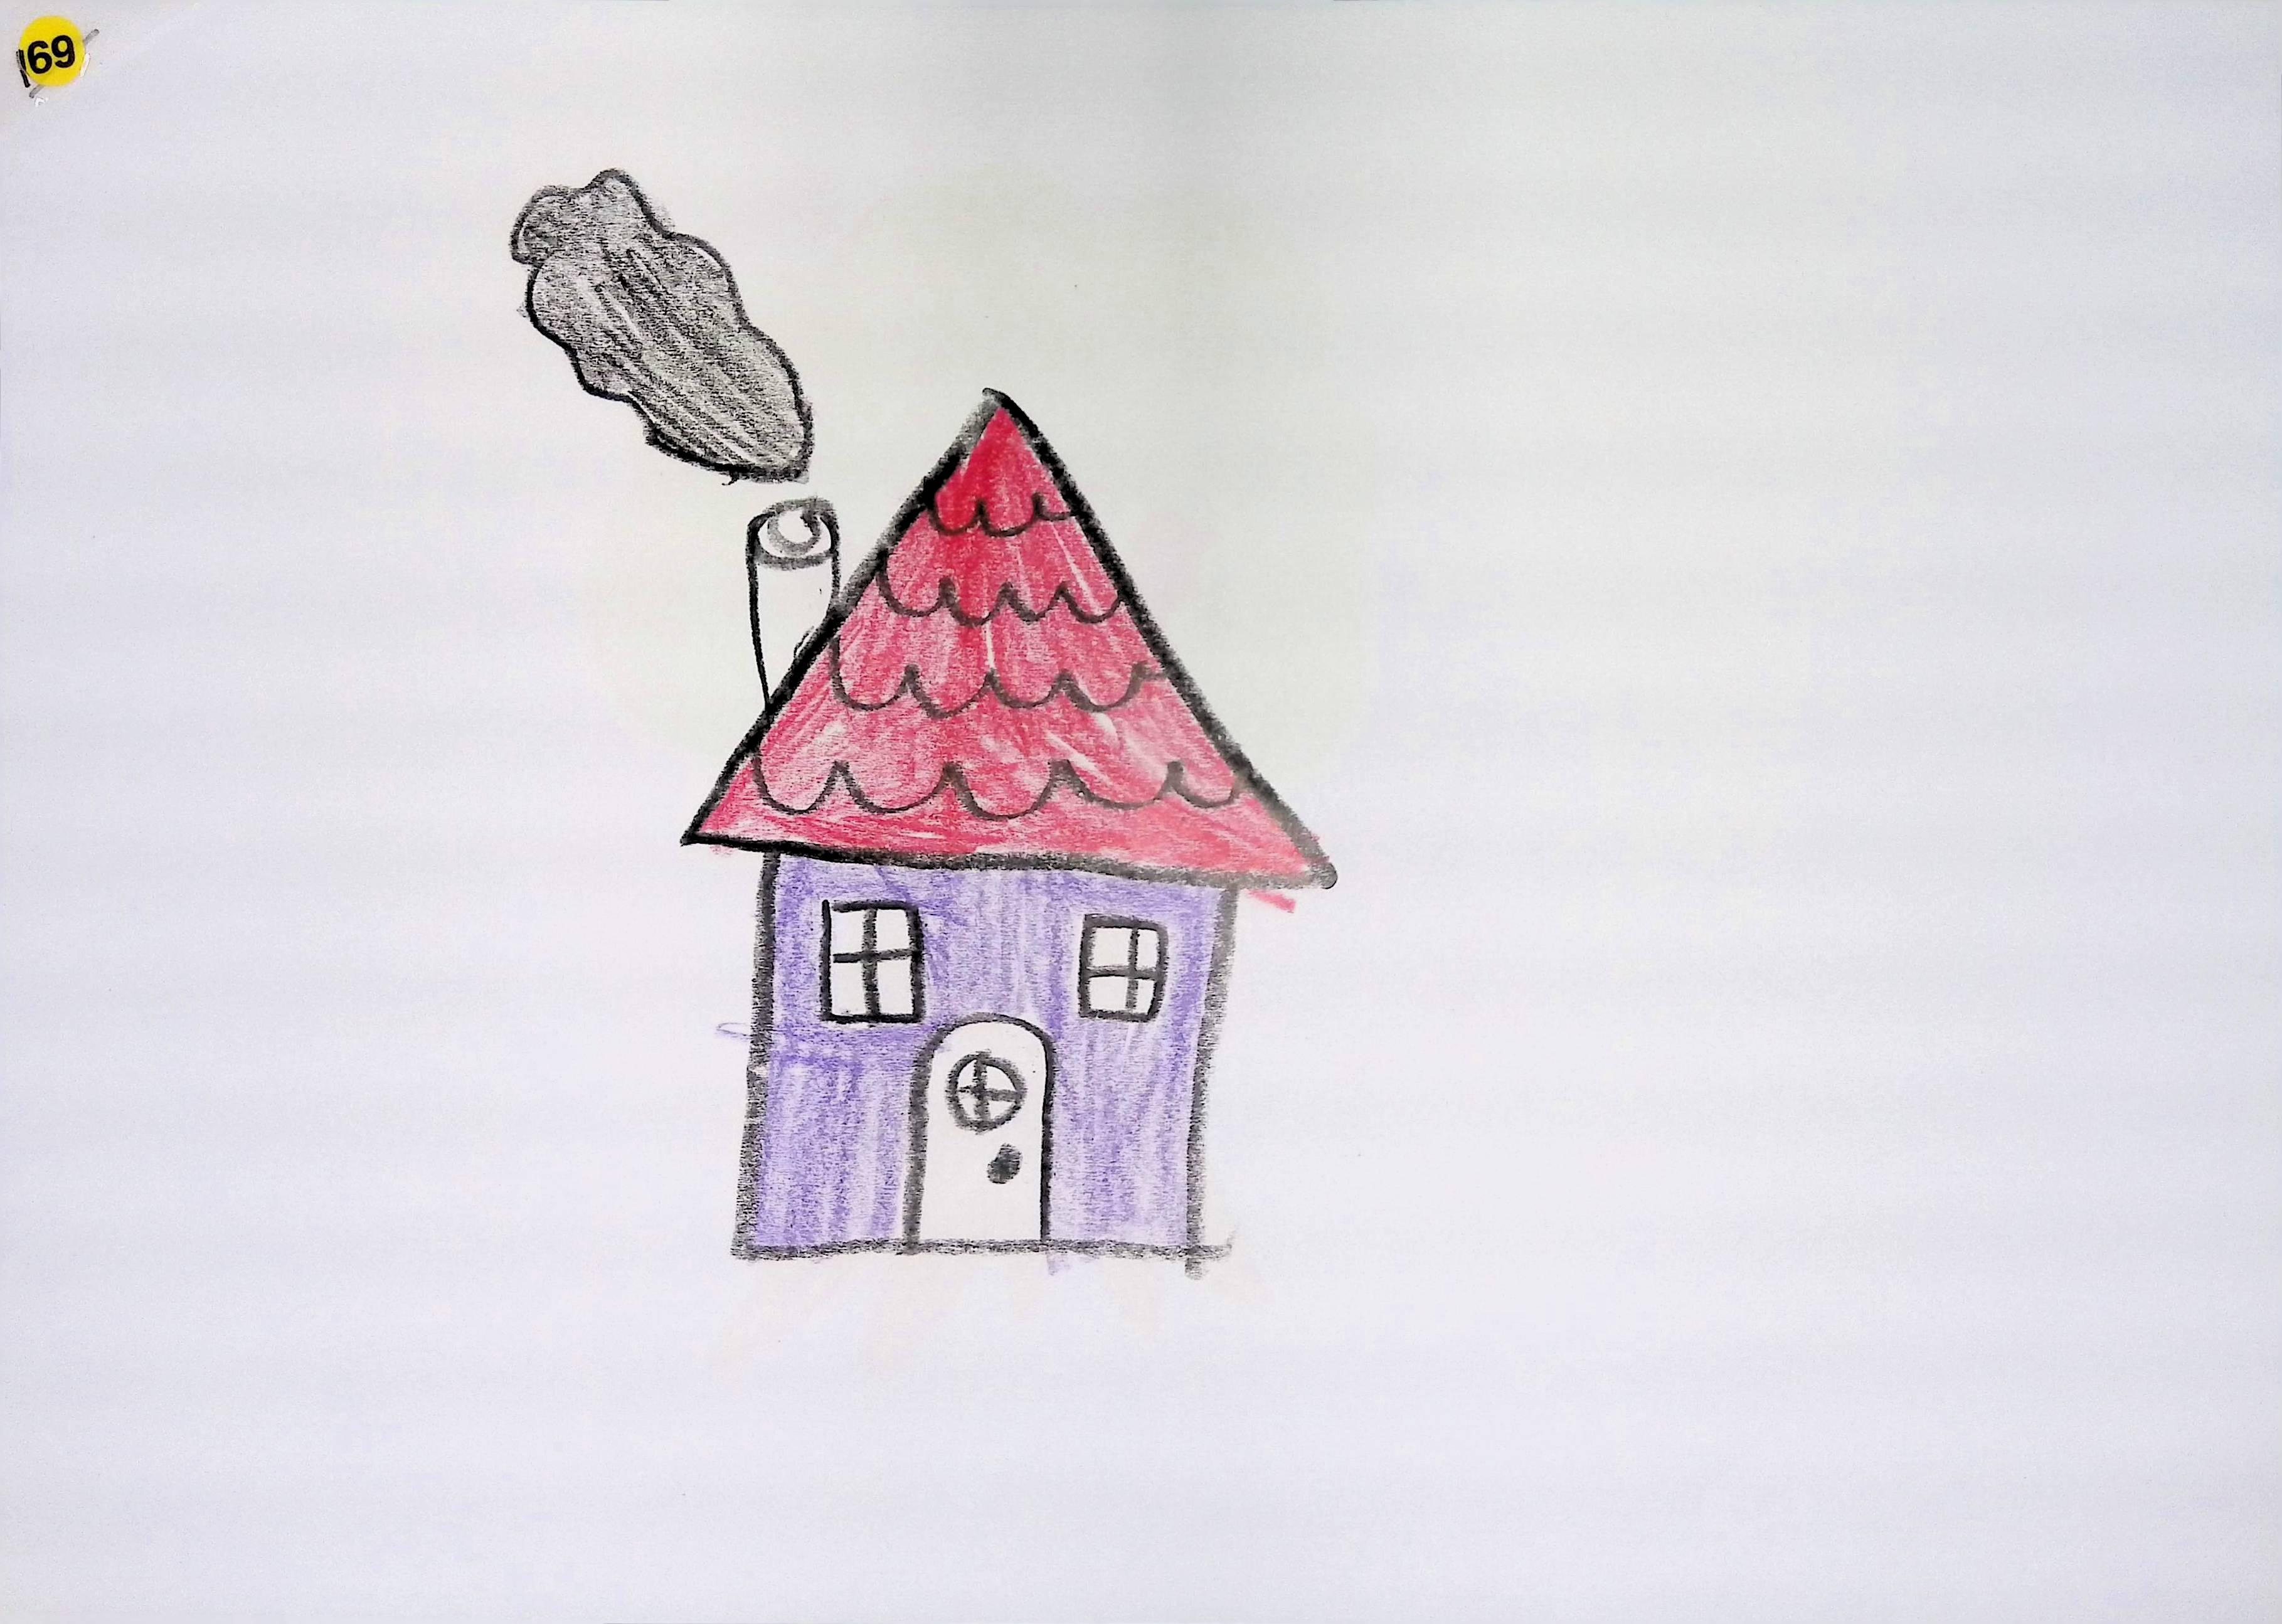chimney: (743, 494, 840, 707)
door: (915, 1019, 1051, 1244)
house: (685, 390, 1335, 1258)
roof: (685, 390, 1335, 888)
wall: (734, 852, 1235, 1257)
window: (822, 903, 922, 1023), (1080, 916, 1165, 1021), (945, 1053, 1028, 1134)
